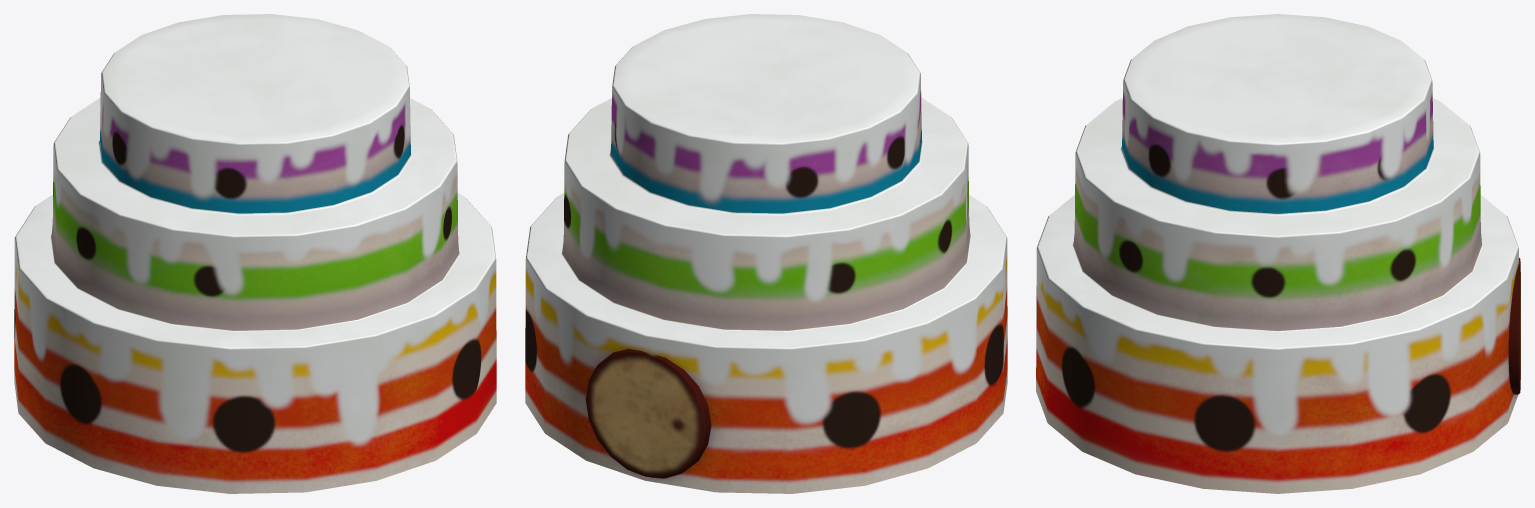
Rendered from Mod_Base.gltf.
3 renders of one model, left to right at view 1: azimuth 30°, elevation 25°; view 2: azimuth 150°, elevation 25°; view 3: azimuth 270°, elevation 25°, orthographic.
Parts seen in each view (by area): view 1: Base; view 2: Base; view 3: Base.
Part boxes in pixels (<box>): Base: <box>14,14,496,493</box>; Base: <box>525,14,1007,493</box>; Base: <box>1036,14,1520,493</box>.
Bounding box in the file's own units: 18.23 × 13.03 × 18.26.
Materials: 1 (1 with a texture image).
